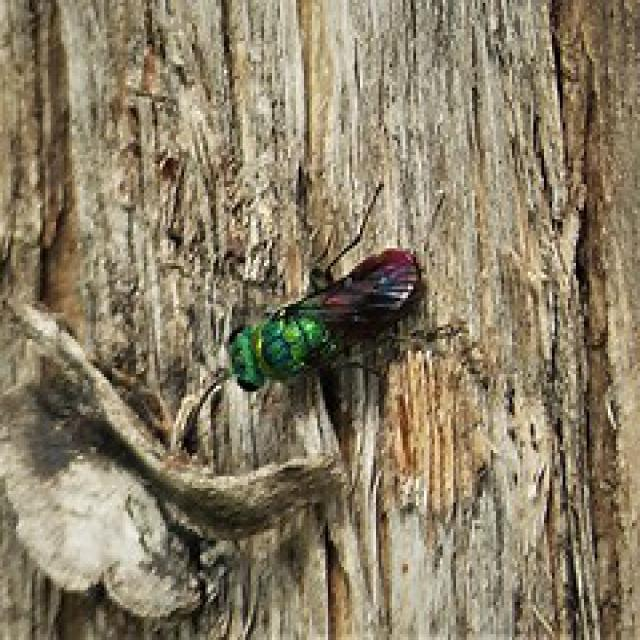Guepe: (168, 176, 485, 466)
